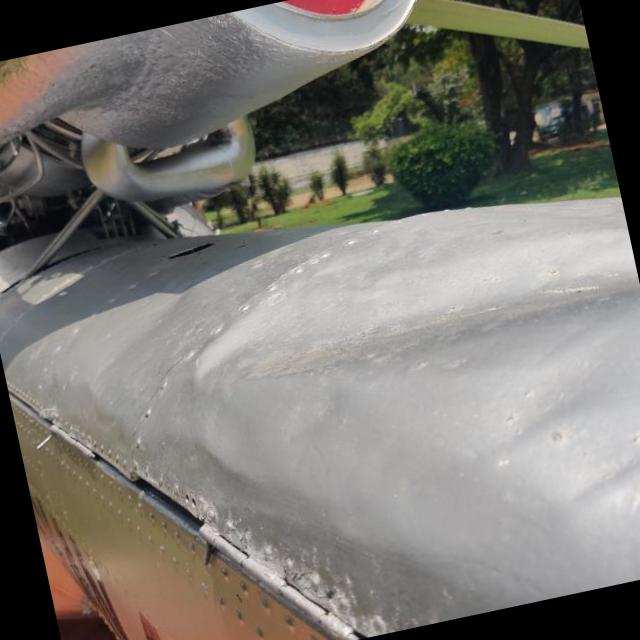Dent: (177, 198, 640, 431), (455, 359, 631, 509), (548, 460, 640, 597)
